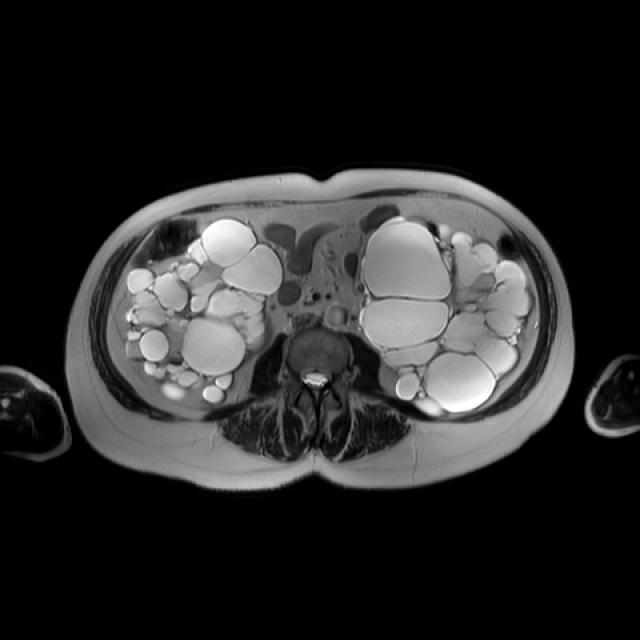sag: (128, 219, 283, 405)
sol: (363, 215, 534, 420)
